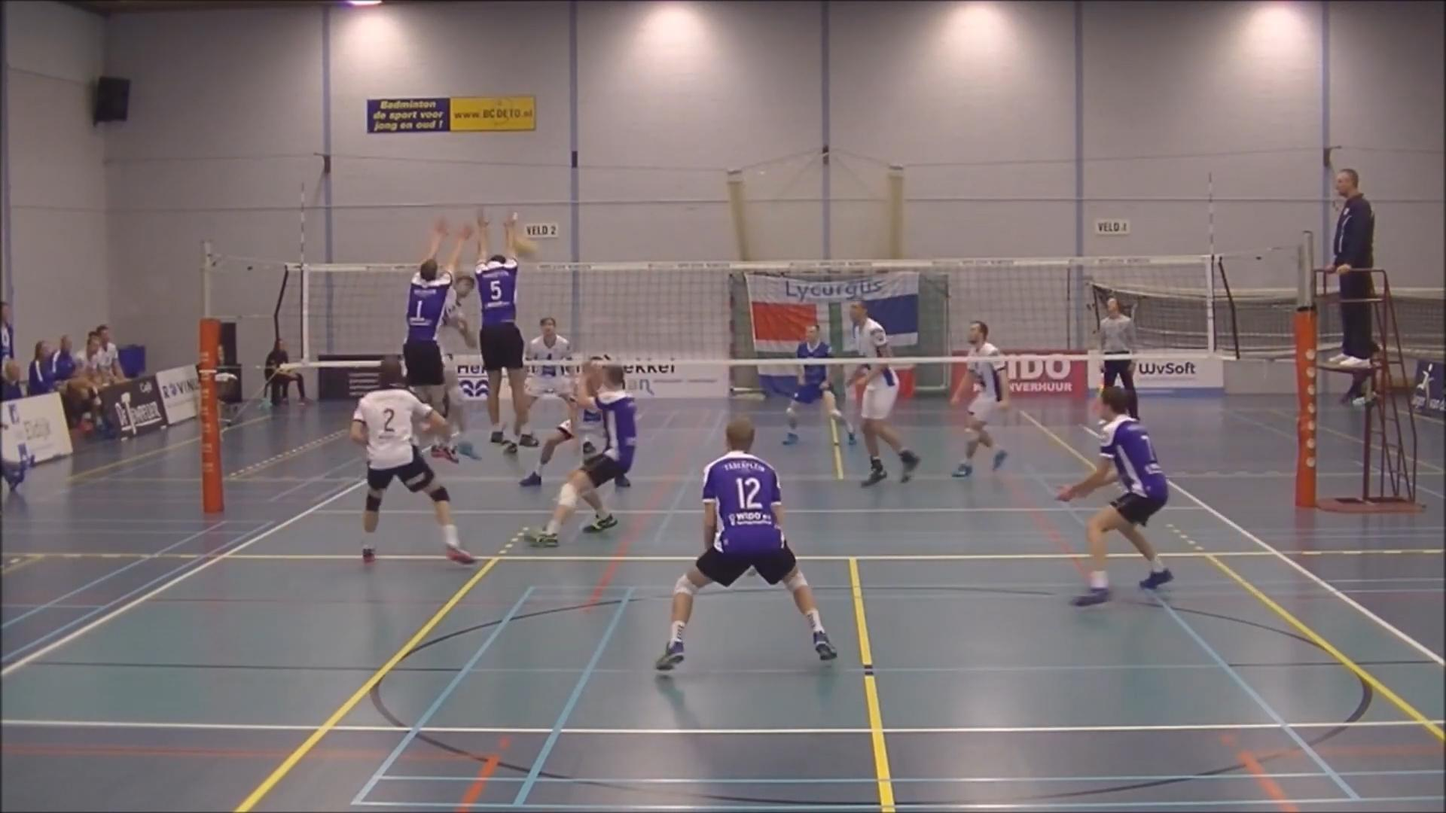attacco: (432, 246, 491, 463)
muro: (380, 212, 480, 467), (462, 205, 543, 462)
